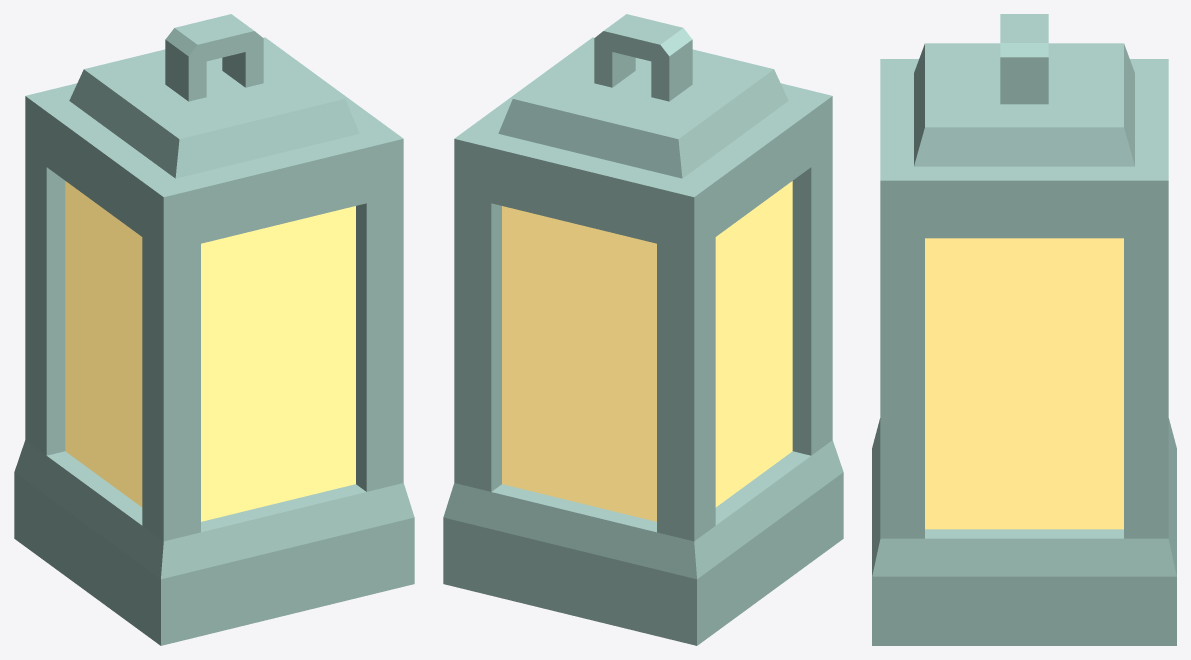
The model's file is lanternGlass.glb.
The picture shows the model from 3 angles, left to right: view 1: azimuth 30°, elevation 25°; view 2: azimuth 150°, elevation 25°; view 3: azimuth 270°, elevation 25°; orthographic projection. The views are drawn at different scales.
Parts seen in each view (by area): view 1: lanternGlass(Clone); view 2: lanternGlass(Clone); view 3: lanternGlass(Clone).
Boxes of the visible parts, left/top/right/bottom form: lanternGlass(Clone): left=14, top=14, right=414, bottom=645; lanternGlass(Clone): left=443, top=14, right=843, bottom=645; lanternGlass(Clone): left=872, top=14, right=1176, bottom=645.
Size of the model in its own units: 0.1459 by 0.2923 by 0.1459.
